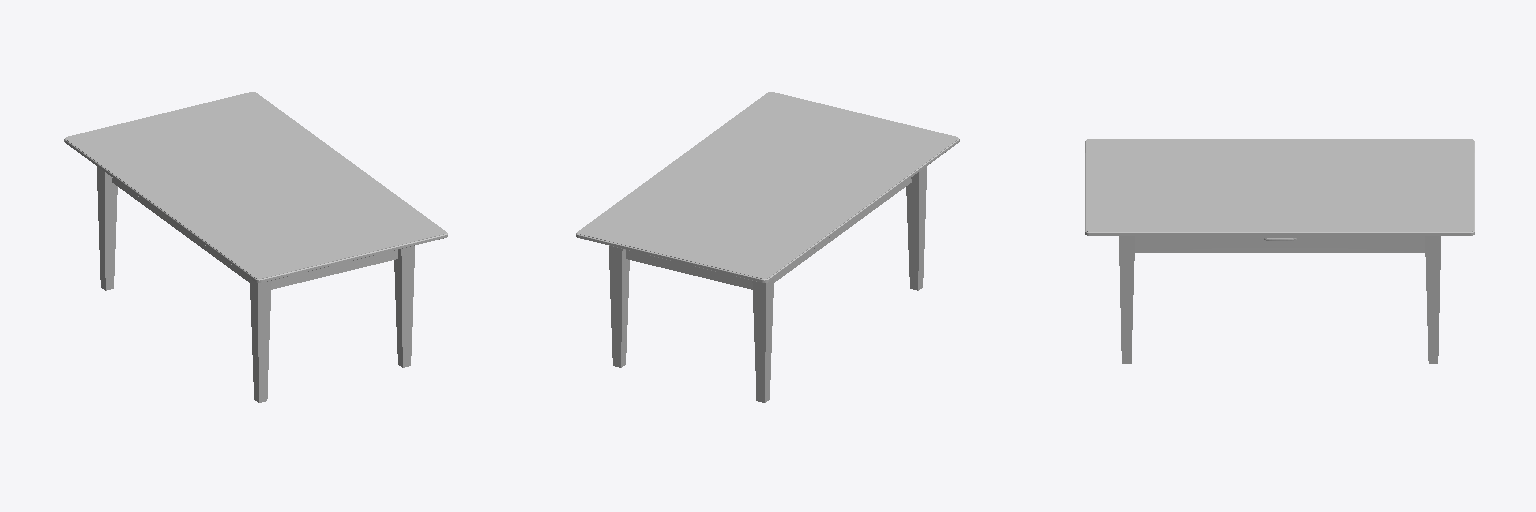
Rendered from Furniture_Table.obj.
The picture shows the model from 3 angles: view 1: azimuth 30°, elevation 25°; view 2: azimuth 150°, elevation 25°; view 3: azimuth 270°, elevation 25°; orthographic projection.
Parts seen in each view (by area): view 1: SM_Furniture_Table_A1_01; view 2: SM_Furniture_Table_A1_01; view 3: SM_Furniture_Table_A1_01.
Part boxes in pixels (left/top/right/bottom): SM_Furniture_Table_A1_01: left=64, top=92, right=447, bottom=402; SM_Furniture_Table_A1_01: left=576, top=92, right=959, bottom=402; SM_Furniture_Table_A1_01: left=1085, top=139, right=1474, bottom=363.
Size of the model in its own units: 4248 by 2991 by 7485.